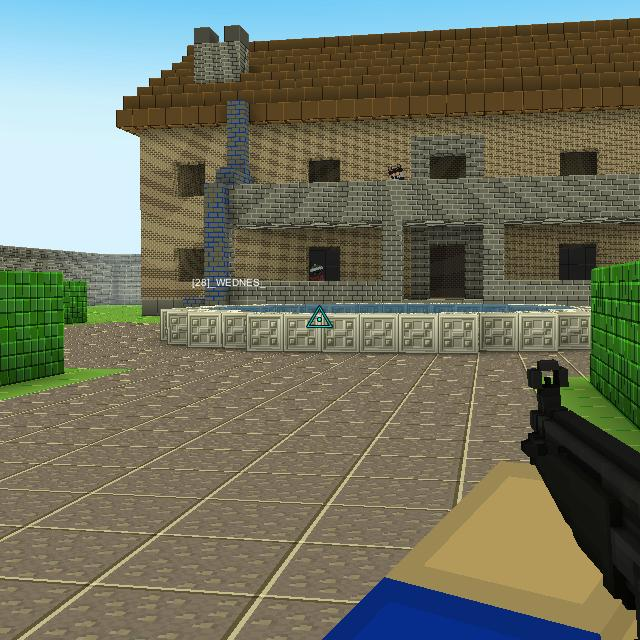enemy: (386, 163, 406, 180), (309, 263, 326, 281)
